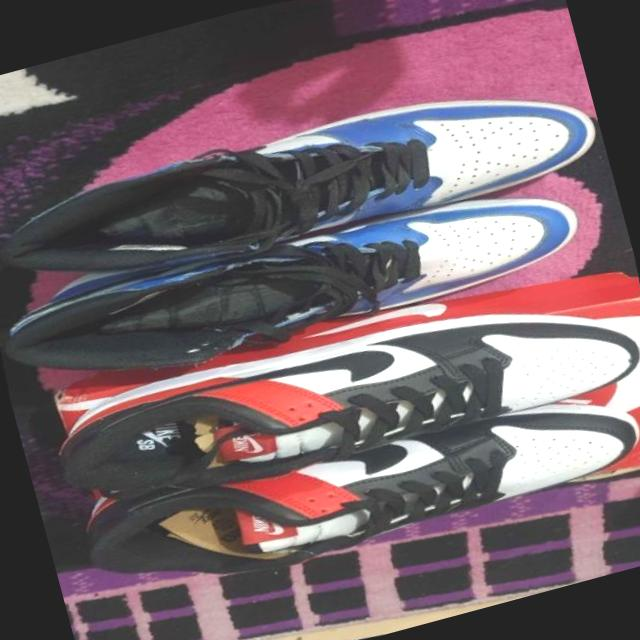nike_fake_jordan: (15, 239, 640, 561), (0, 28, 614, 344), (0, 132, 609, 441), (119, 349, 640, 611)
